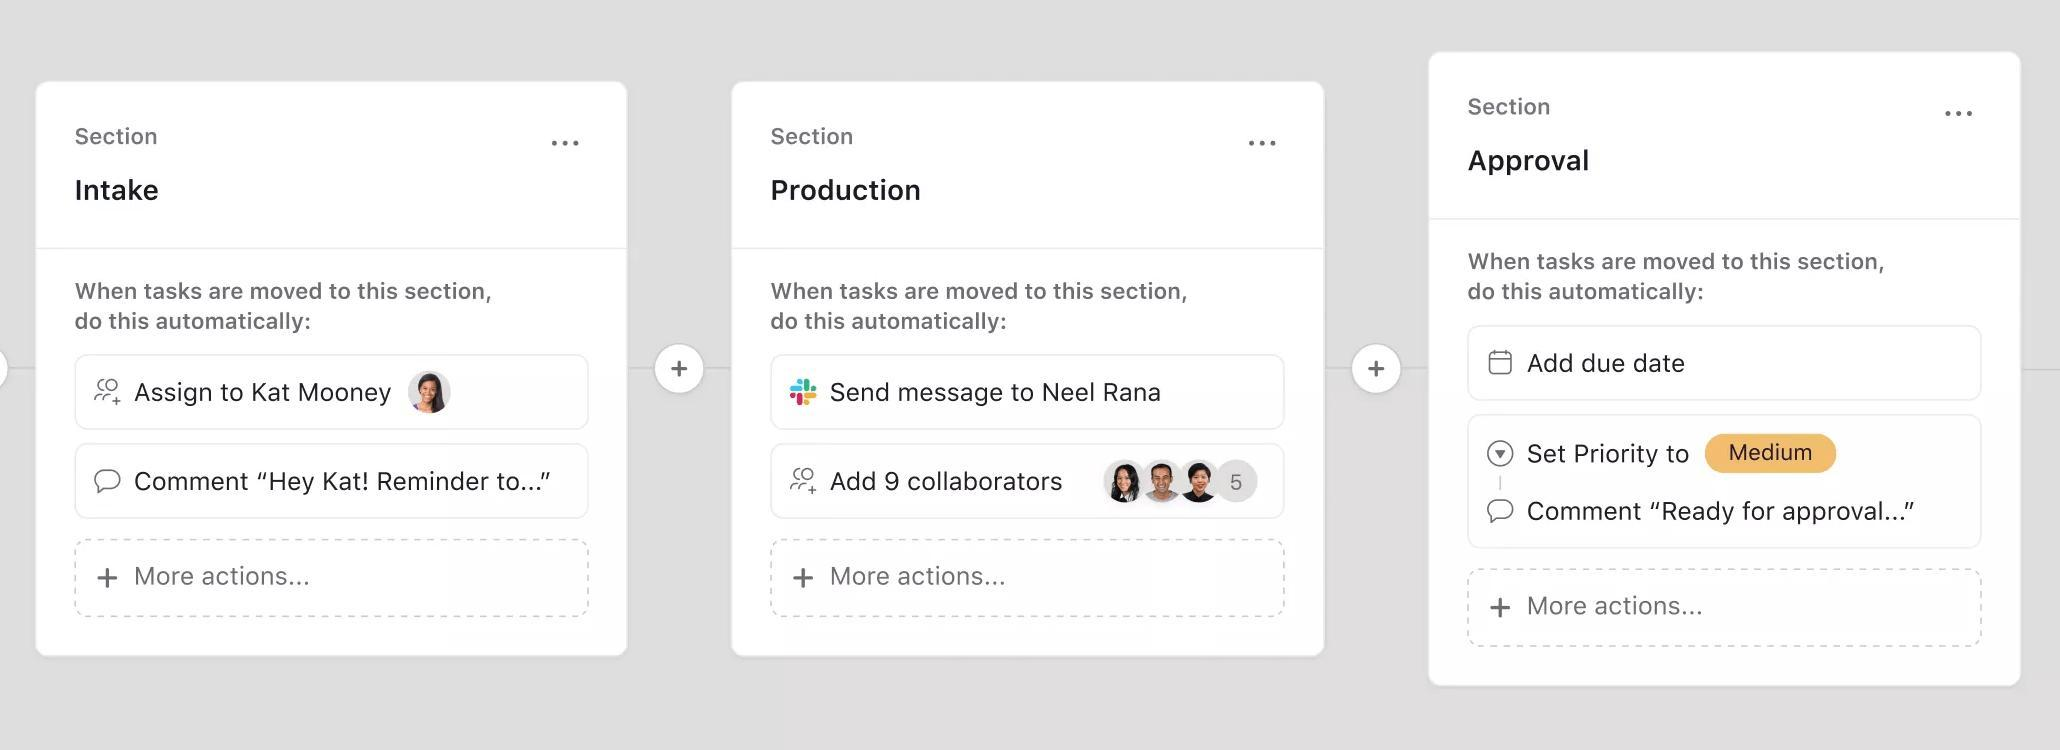button: (1700, 431, 1842, 477)
icon: (403, 376, 457, 419), (1481, 343, 1517, 386), (544, 127, 589, 162), (85, 374, 125, 412), (786, 462, 824, 502), (1247, 123, 1284, 164), (1940, 97, 1979, 133), (85, 468, 125, 500), (91, 563, 123, 598), (791, 563, 822, 599), (1486, 590, 1517, 624), (787, 374, 817, 410), (1487, 494, 1513, 532), (1361, 357, 1393, 387), (1487, 437, 1513, 473), (667, 353, 698, 384)
label: (824, 376, 1167, 414), (1523, 494, 1919, 527), (131, 468, 564, 496), (131, 380, 394, 414), (1524, 437, 1693, 478), (828, 469, 1065, 496), (830, 561, 1010, 596), (127, 560, 313, 594), (1524, 591, 1701, 624), (1523, 344, 1688, 378)
